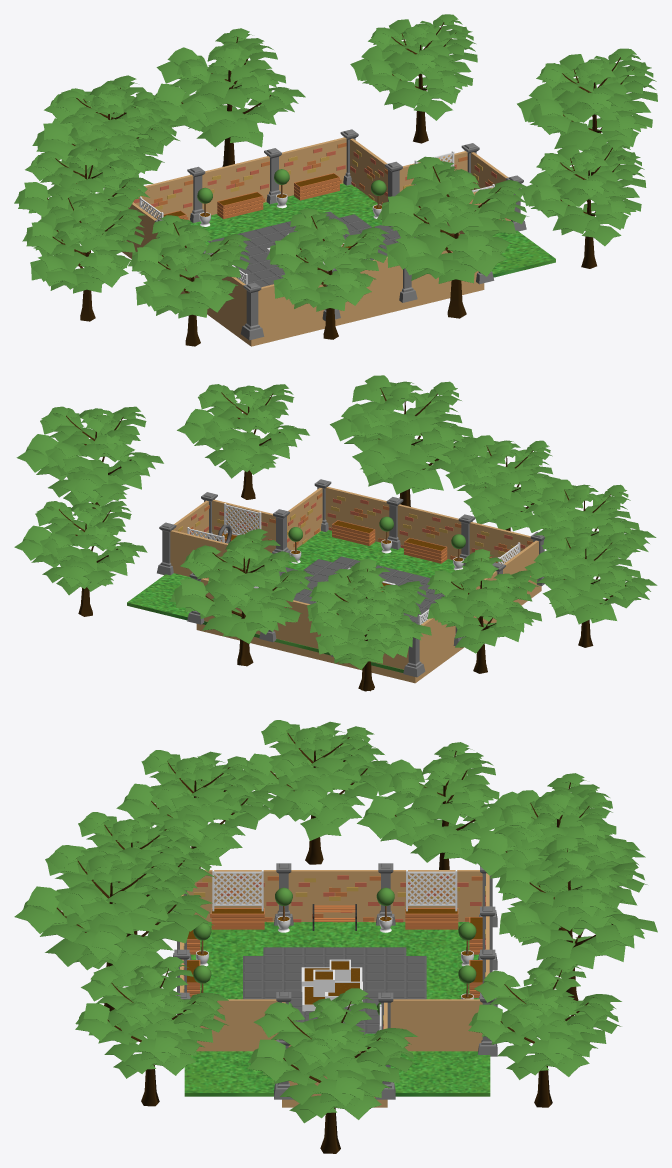
File: environment.fbx
3 views of the same model, one above another, from view 1: azimuth 30°, elevation 25°; view 2: azimuth 150°, elevation 25°; view 3: azimuth 270°, elevation 25° (orthographic). The views are drawn at different scales.
Parts seen in each view (by area): view 1: environment; view 2: environment; view 3: environment.
Boxes of the visible parts, x1,y1,x2,y2 form: environment: [14, 14, 657, 346]; environment: [14, 375, 657, 691]; environment: [14, 720, 657, 1153].
Bounding box in the file's own units: 4207 × 960 × 3159.
